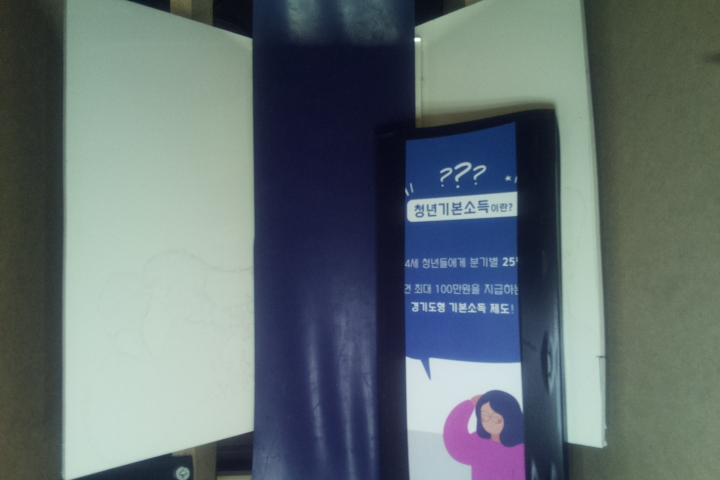book: (387, 108, 569, 480)
